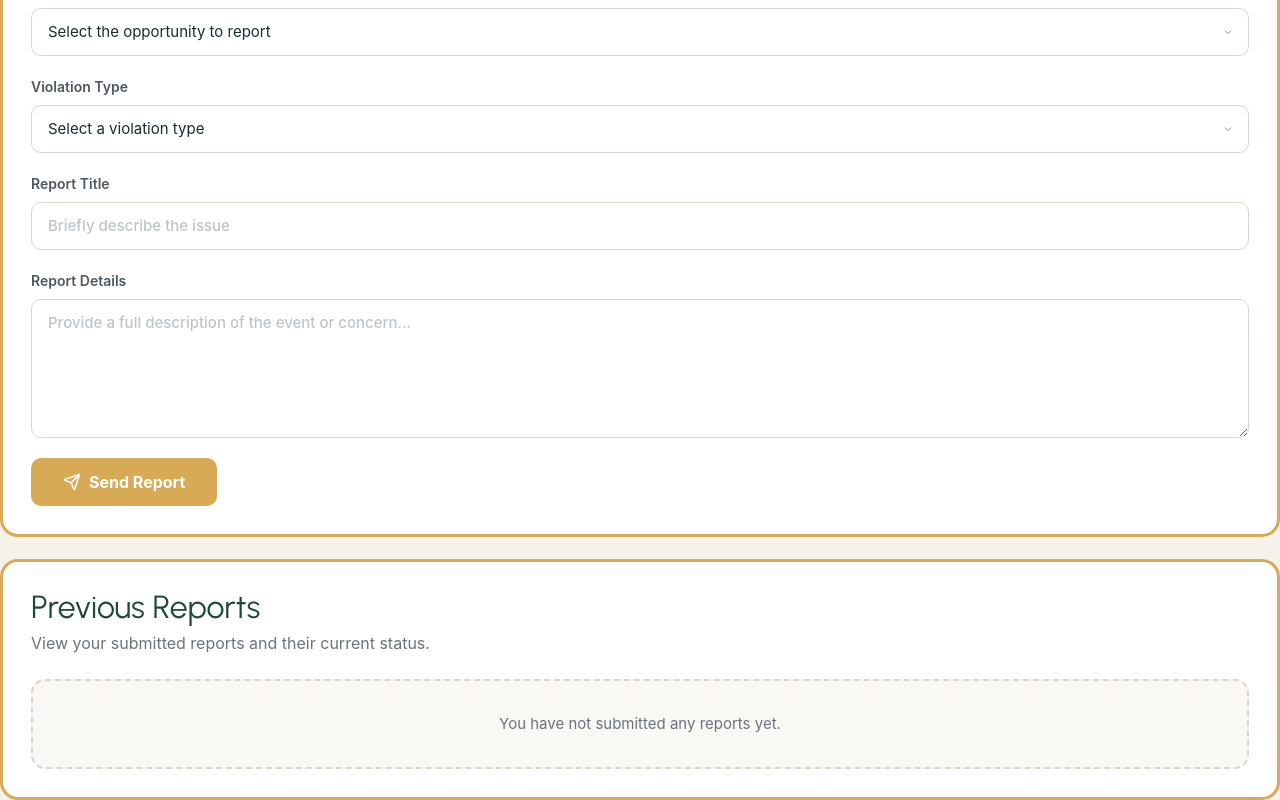
Test: Reporting UI › validates subtype, title, details, and selected target before submission
(page scrolled)
What coordinates should you click on to do the following:
click the button "Send Report"
I would click on:
 (124, 482)
Its box is [31,458,217,506].
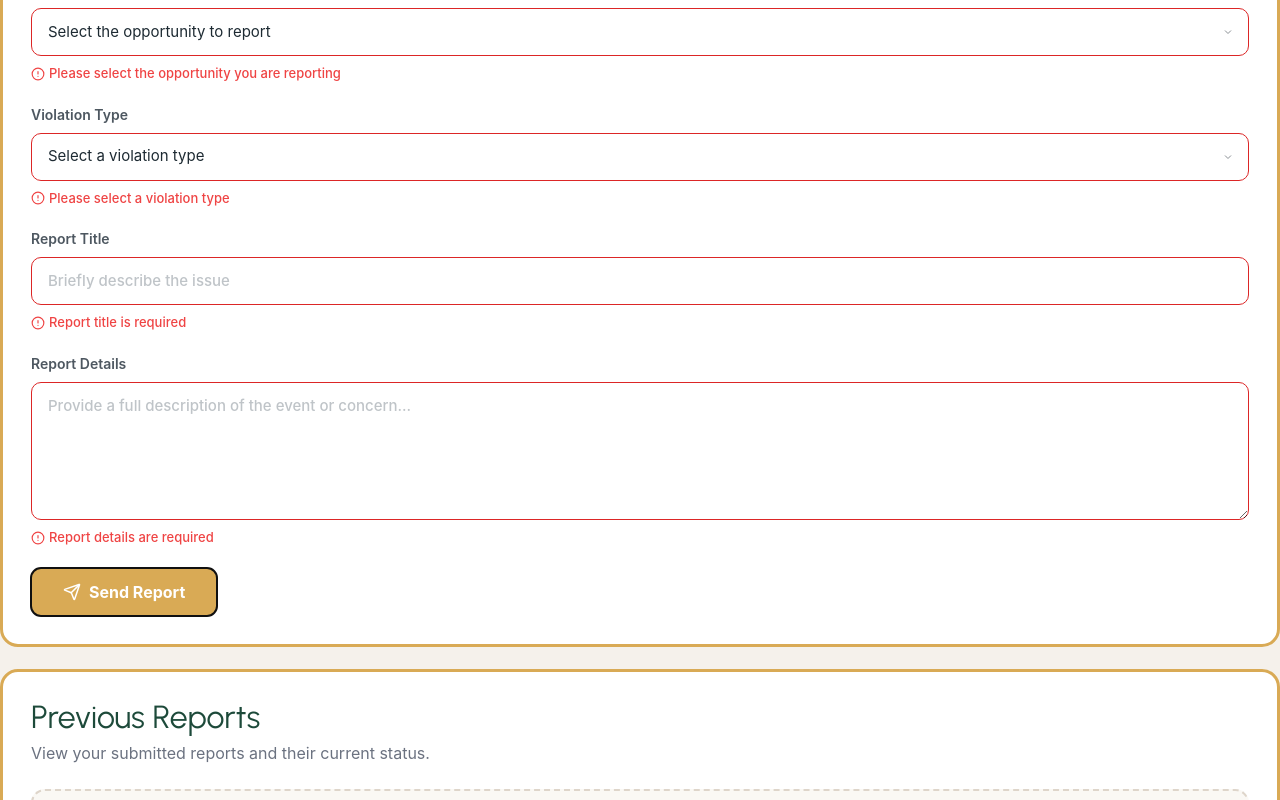
Check: the text "Please select the opportunity you are reporting" is shown, box [31,65,341,81]
Check: the text "Please select a violation type" is shown, box [31,190,230,206]
Check: the text "Report title is required" is shown, box [31,314,186,330]
